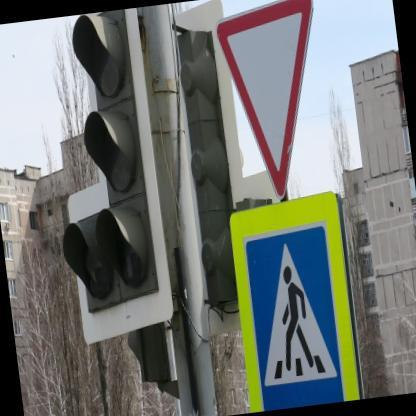off traffic light: (63, 9, 173, 343)
road_sign: (231, 193, 359, 410), (215, 0, 312, 200)
